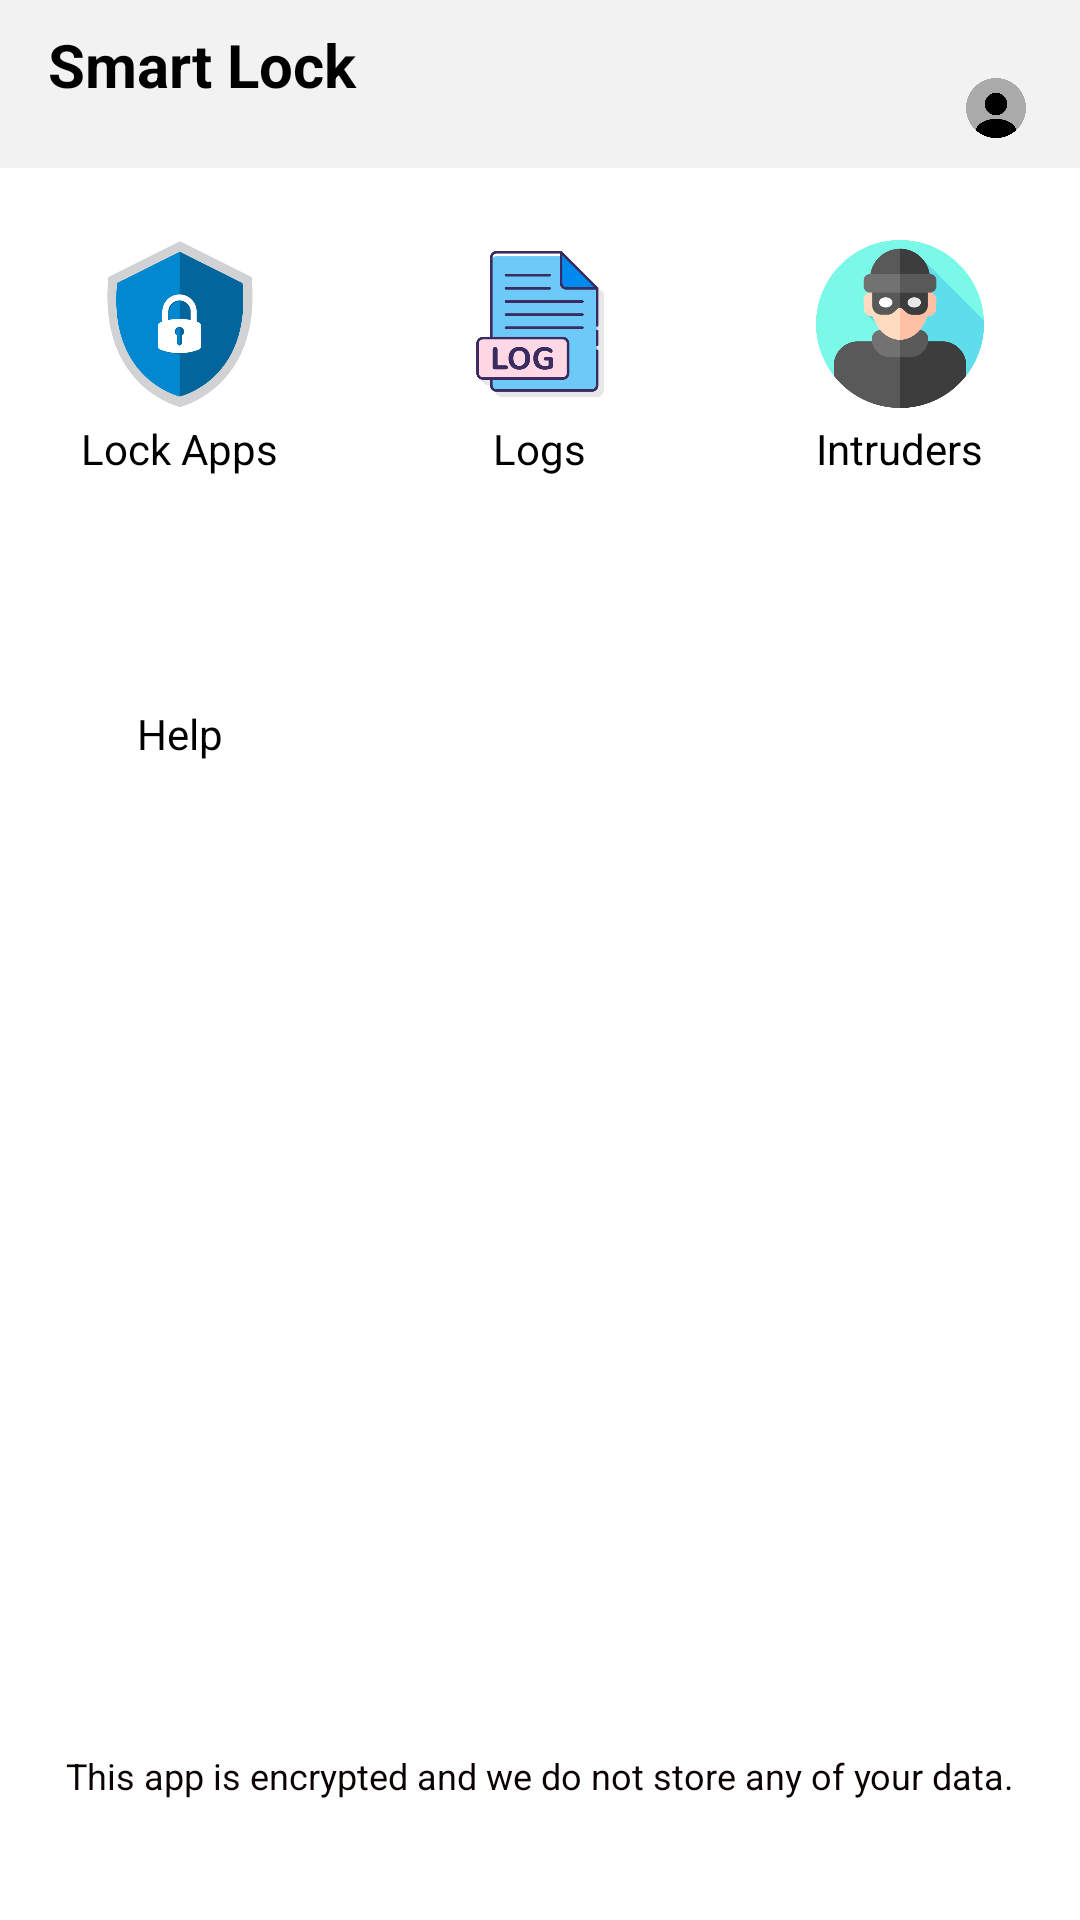

Screen size 1080px x 1920px. Icon name, then its center in pixels as (x=x, y=y):
Profile: (x=996, y=108)
